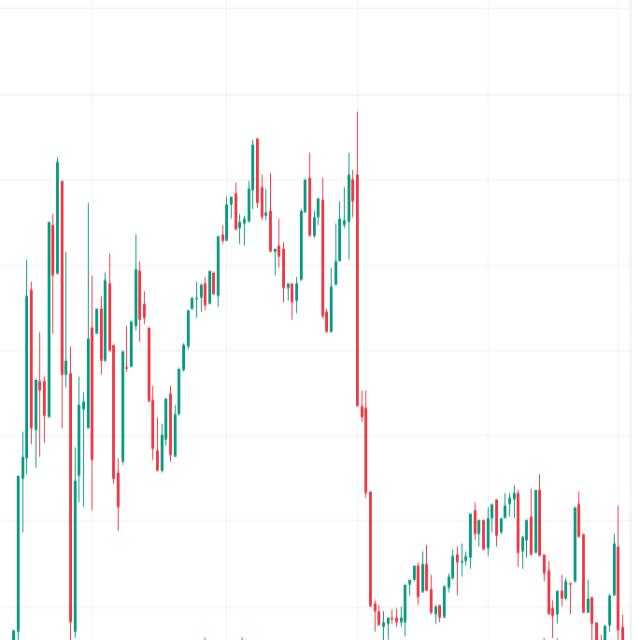Triple-Top: (208, 112, 381, 314)
